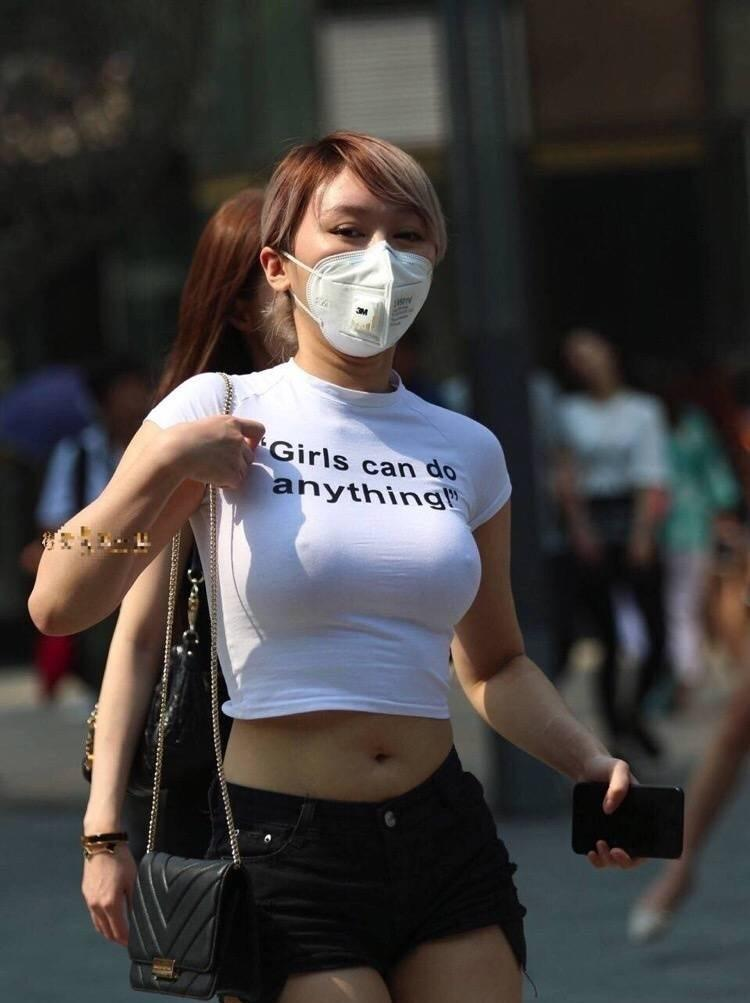OK: (286, 199, 445, 358)
